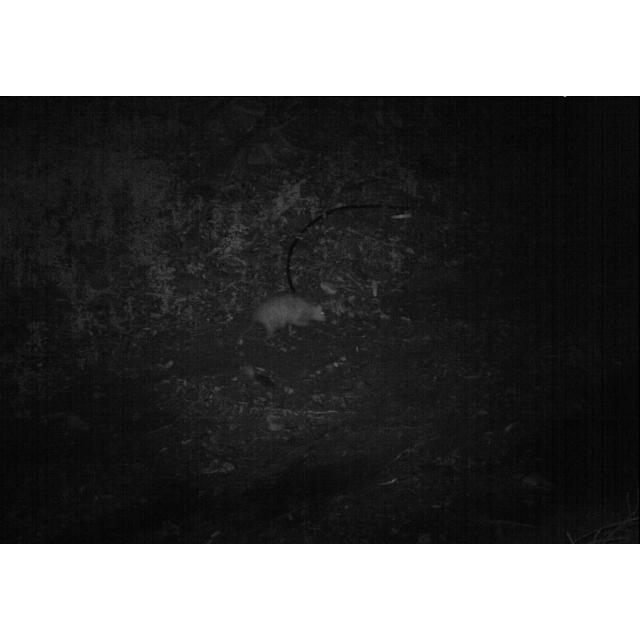animals: (250, 290, 334, 340)
